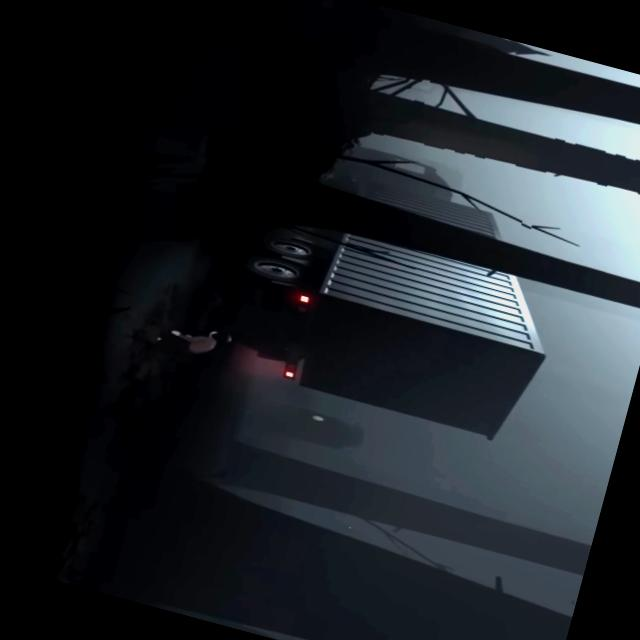boy: (150, 314, 232, 362)
